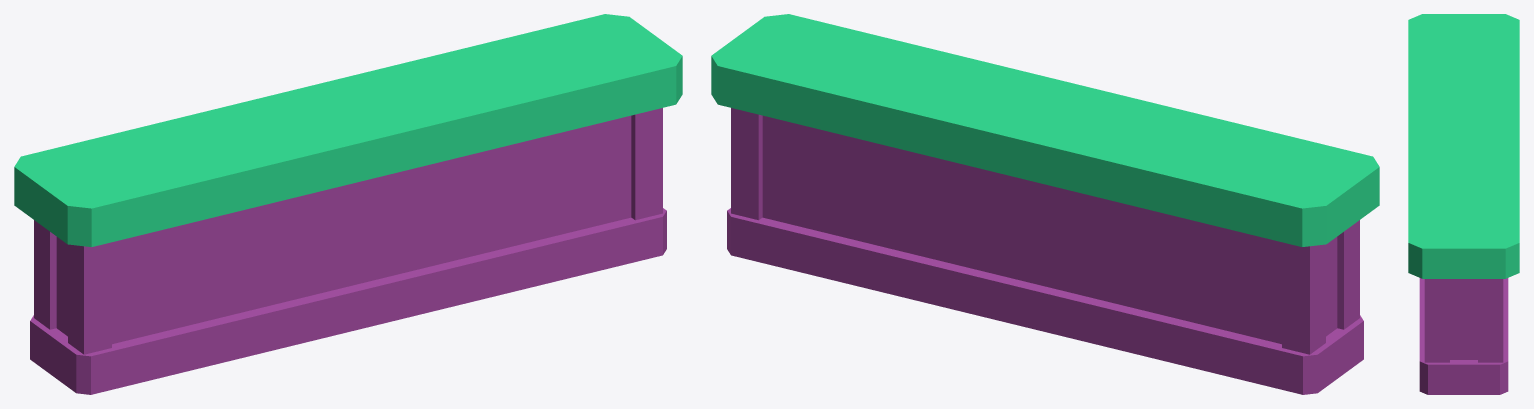
The model's file is barEmissive.fbx.
3 renders of one model, left to right at view 1: azimuth 30°, elevation 25°; view 2: azimuth 150°, elevation 25°; view 3: azimuth 270°, elevation 25°, orthographic. The views are drawn at different scales.
Visible parts, largest first — view 1: Cube; view 2: Cube; view 3: Cube.
Boxes of the visible parts, x1,y1,x2,y2 form: Cube: (14,14,682,394); Cube: (711,14,1379,394); Cube: (1408,14,1519,394).
Bounding box in the file's own units: 2 × 10 × 3.
